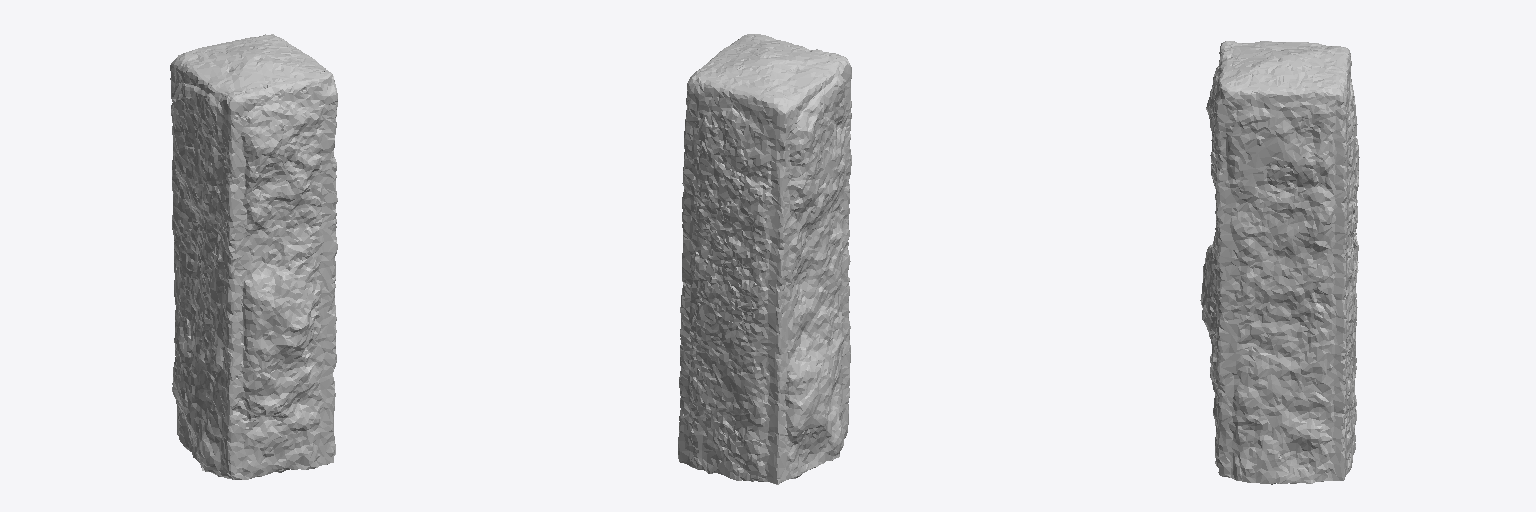
File: Pillar.obj
3 renders of one model, left to right at view 1: azimuth 30°, elevation 25°; view 2: azimuth 150°, elevation 25°; view 3: azimuth 270°, elevation 25°, orthographic.
Parts seen in each view (by area): view 1: milestone_01_Low_20k_tris_; view 2: milestone_01_Low_20k_tris_; view 3: milestone_01_Low_20k_tris_.
Boxes of the visible parts, x1,y1,x2,y2 form: milestone_01_Low_20k_tris_: [170, 34, 337, 479]; milestone_01_Low_20k_tris_: [678, 34, 851, 484]; milestone_01_Low_20k_tris_: [1200, 41, 1359, 484].
Bounding box in the file's own units: 0.6123 × 1.79 × 0.6488.